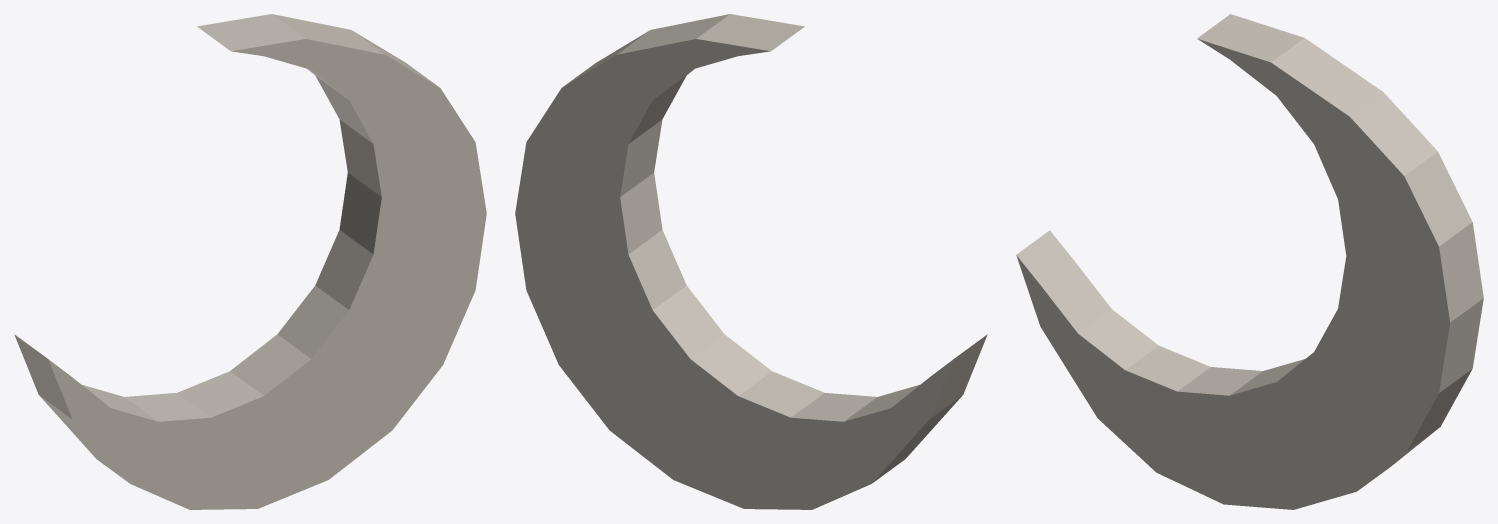
The model's file is SM_Icon_Weather_Moon_01.fbx.
3 renders of one model, left to right at view 1: azimuth 30°, elevation 25°; view 2: azimuth 150°, elevation 25°; view 3: azimuth 330°, elevation 25°, orthographic.
Parts seen in each view (by area): view 1: SM_Icon_Weather_Moon_01; view 2: SM_Icon_Weather_Moon_01; view 3: SM_Icon_Weather_Moon_01.
Part boxes in pixels (box(x1,y1,x2,y2)): SM_Icon_Weather_Moon_01: box(14, 14, 486, 509); SM_Icon_Weather_Moon_01: box(515, 14, 987, 509); SM_Icon_Weather_Moon_01: box(1016, 14, 1483, 509).
Size of the model in its own units: 36.66 by 37.08 by 4.93.
